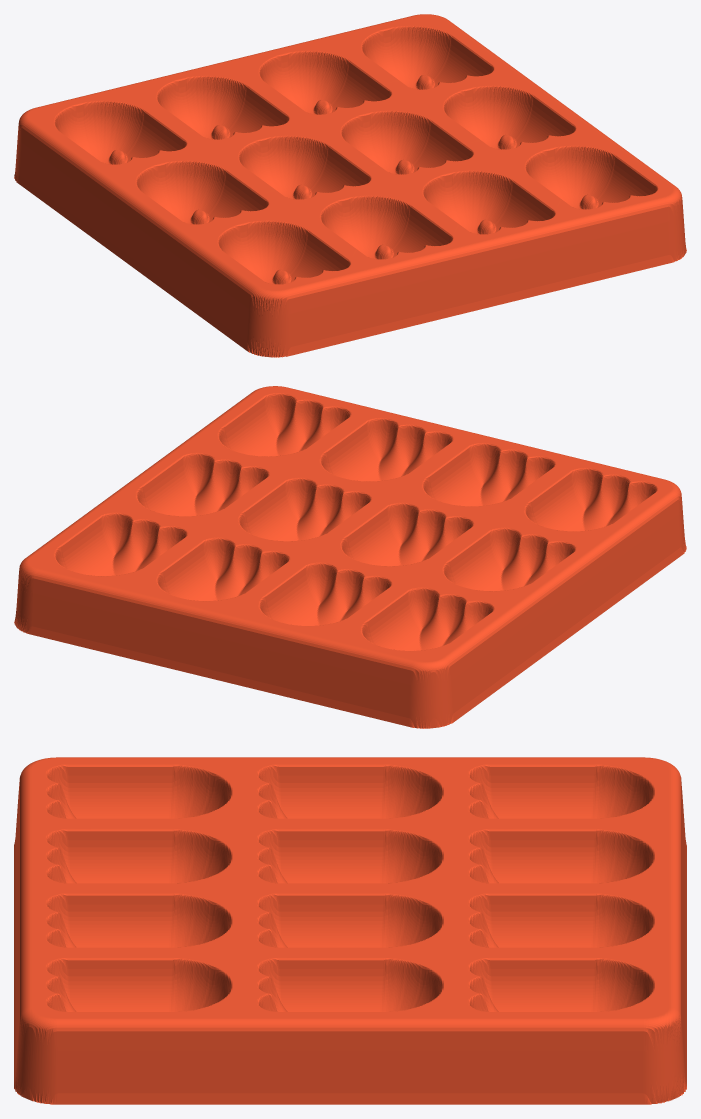
Rendered from mold.glb.
The picture shows the model from 3 angles, top to bottom: view 1: azimuth 30°, elevation 25°; view 2: azimuth 150°, elevation 25°; view 3: azimuth 270°, elevation 25°; orthographic projection. The views are drawn at different scales.
Visible parts, largest first — view 1: geometry_0; view 2: geometry_0; view 3: geometry_0.
Part boxes in pixels (x1,y1,x2,y2): geometry_0: (14, 14, 686, 357); geometry_0: (14, 386, 686, 728); geometry_0: (14, 757, 686, 1104).
Bounding box in the file's own units: 0.136 × 0.0182 × 0.141.
